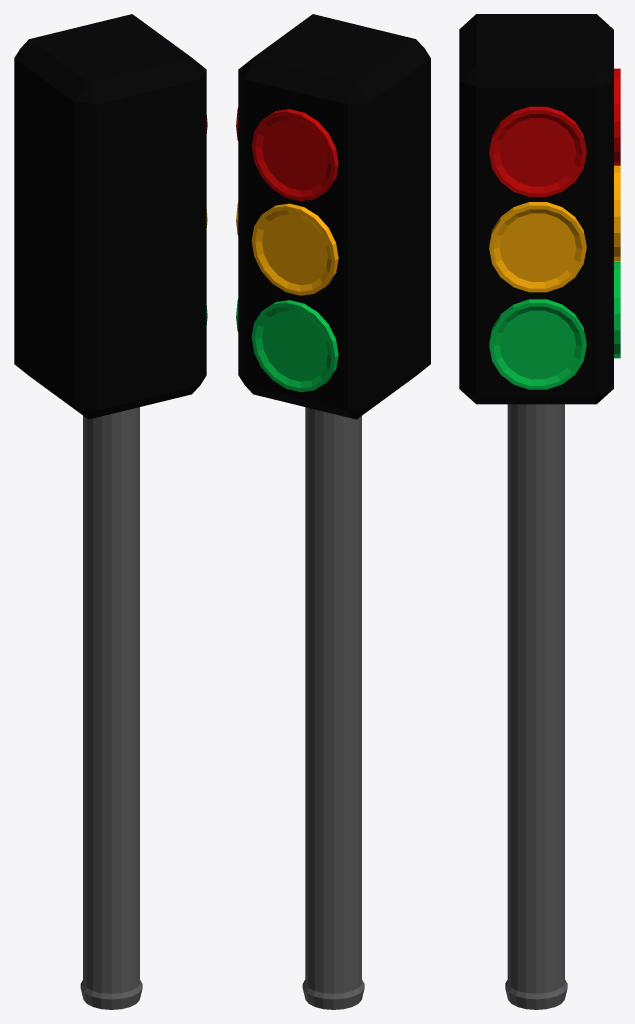
File: TRAFFIC LIGHT.001_Material.003.glb
3 renders of one model, left to right at view 1: azimuth 30°, elevation 25°; view 2: azimuth 150°, elevation 25°; view 3: azimuth 270°, elevation 25°, orthographic.
Parts seen in each view (by area): view 1: TRAFFIC LIGHT.001_Material.003_0; view 2: TRAFFIC LIGHT.001_Material.003_0; view 3: TRAFFIC LIGHT.001_Material.003_0.
Part boxes in pixels (x1=…): TRAFFIC LIGHT.001_Material.003_0: x1=14, y1=14, x2=207, y2=1009; TRAFFIC LIGHT.001_Material.003_0: x1=236, y1=14, x2=430, y2=1009; TRAFFIC LIGHT.001_Material.003_0: x1=459, y1=14, x2=620, y2=1009.
Bounding box in the file's own units: 0.158 × 1.02 × 0.1564.
Materials: 1 (1 with a texture image).
